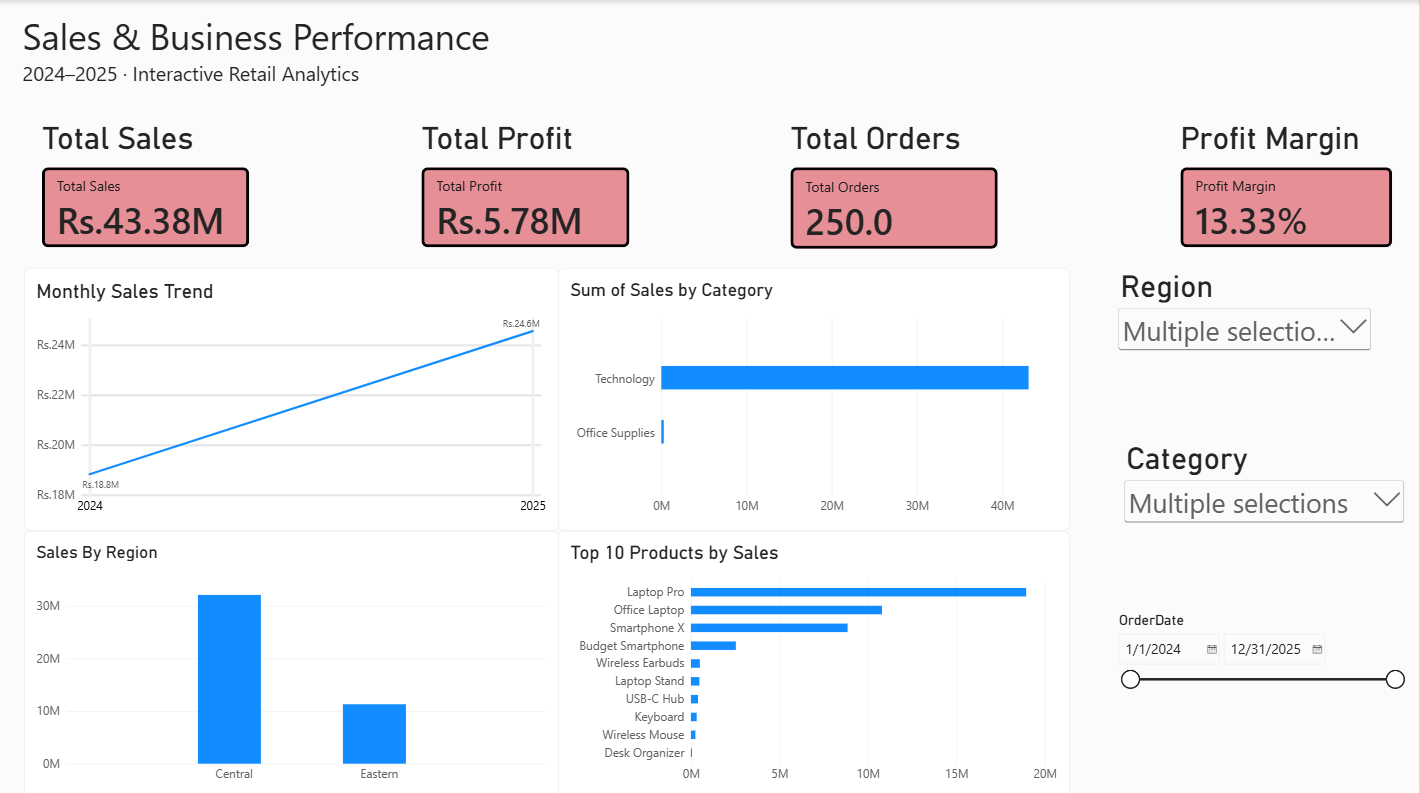

Layout of this report page (visuals, bound fields, positions):
{"tool":"powerbi","page":{"name":"Page 1","canvas":[1920,1080],"ordinal":0},"visuals":[{"type":"cardVisual","title":"Total Sales","fields":{"Data":["sales_data.Total Sales Revenue"]},"box":[56.7,161.6,280.6,172.9],"z":0},{"type":"cardVisual","title":"Total Profit","fields":{"Data":["sales_data.Total Profit"]},"box":[569.8,161.6,281.6,172.6],"z":1000},{"type":"cardVisual","title":"Profit Margin","fields":{"Data":["sales_data.Profit Margin"]},"box":[1595.9,161.6,286.3,172.9],"z":2000},{"type":"cardVisual","title":"Total Orders","fields":{"Data":["sales_data.Total Orders"]},"box":[1068.6,162.9,280,174.3],"z":3000},{"type":"lineChart","title":"Monthly Sales Trend","fields":{"Category":["sales_data.OrderDate.Variation.Date Hierarchy.Year","sales_data.OrderDate.Variation.Date Hierarchy.Month","sales_data.OrderDate Hierarchy.OrderDate"],"Y":["sales_data.Total Sales "]},"box":[31.4,362.9,722.9,354.3],"z":4000},{"type":"clusteredBarChart","title":"Sum of Sales by Category","fields":{"Category":["sales_data.Category"],"Y":["Sum(sales_data.Sales)"]},"box":[754.3,362.9,691.4,354.3],"z":5000},{"type":"clusteredColumnChart","title":"Sales By Region","fields":{"Category":["sales_data.Region"],"Y":["Sum(sales_data.Sales)"]},"box":[31.4,717.1,722.9,362.9],"z":6000},{"type":"clusteredBarChart","title":"Top 10 Products by Sales","fields":{"Category":["sales_data.ProductName"],"Y":["Sum(sales_data.Sales)"]},"box":[754.3,717.1,691.4,362.9],"z":7000},{"type":"textbox","box":[31.2,17,677.5,130.4],"z":8000},{"type":"slicer","fields":{"Values":["sales_data.Region"]},"box":[1505.7,362.9,351.4,165.7],"z":9000},{"type":"slicer","fields":{"Values":["sales_data.Category"]},"box":[1514,596,388.6,151.4],"z":10000},{"type":"slicer","fields":{"Values":["sales_data.OrderDate"]},"box":[1505,827.5,397.5,142.5],"z":11000}]}

Visuals, with their boxes in screenshot pixels (x1, y1, x2, y2), scaled from the page's 1920x1080 canvas onto the 1420x793 screenshot:
"Total Sales" cardVisual: bbox(42, 119, 249, 246)
"Total Profit" cardVisual: bbox(421, 119, 630, 245)
"Profit Margin" cardVisual: bbox(1180, 119, 1392, 246)
"Total Orders" cardVisual: bbox(790, 120, 997, 248)
"Monthly Sales Trend" lineChart: bbox(23, 266, 558, 527)
"Sum of Sales by Category" clusteredBarChart: bbox(558, 266, 1069, 527)
"Sales By Region" clusteredColumnChart: bbox(23, 527, 558, 792)
"Top 10 Products by Sales" clusteredBarChart: bbox(558, 527, 1069, 792)
textbox: bbox(23, 12, 524, 108)
slicer - sales_data.Region: bbox(1114, 266, 1373, 388)
slicer - sales_data.Category: bbox(1120, 438, 1407, 549)
slicer - sales_data.OrderDate: bbox(1113, 608, 1407, 712)
